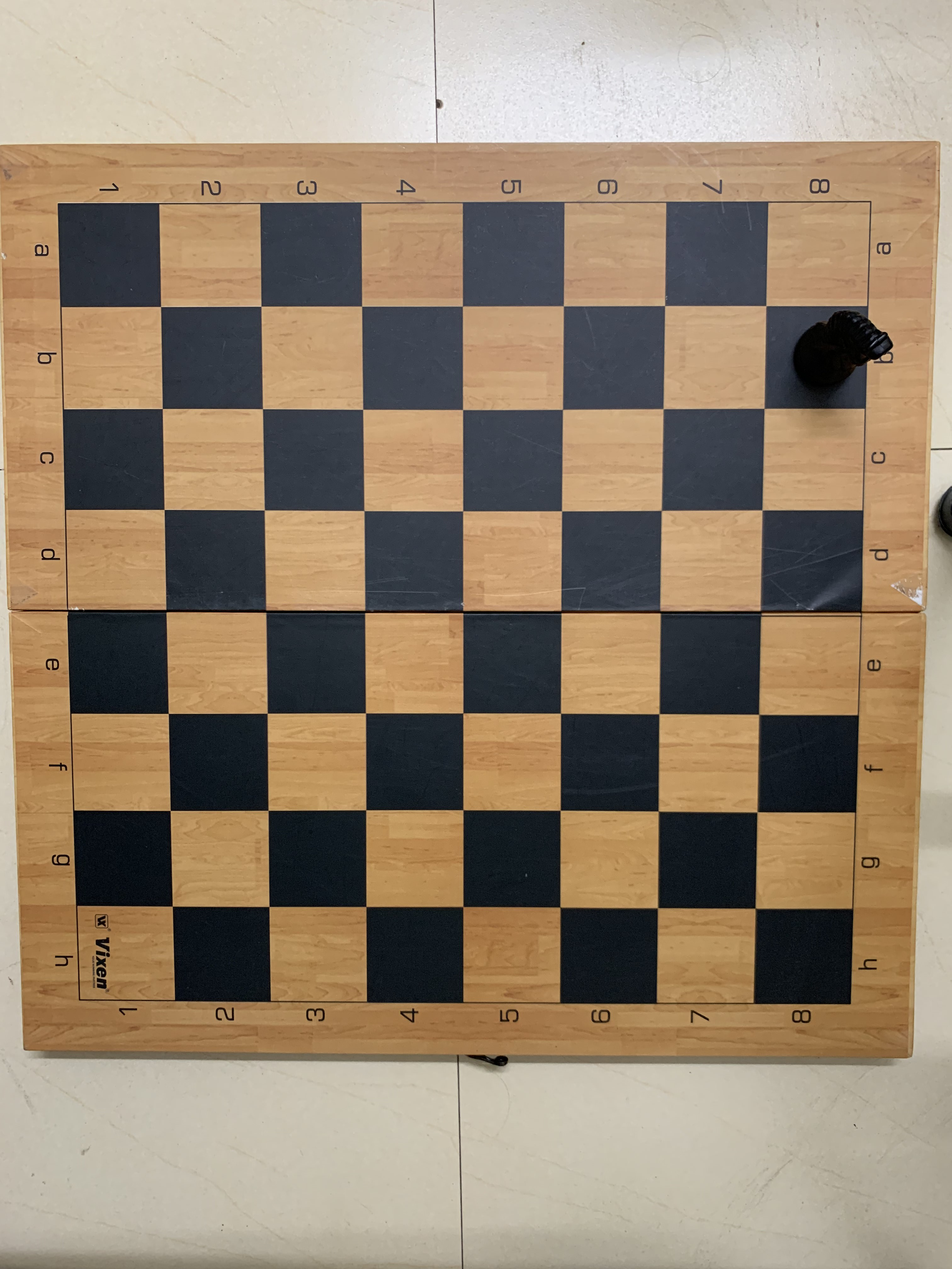black_knight: (765, 309, 896, 404)
